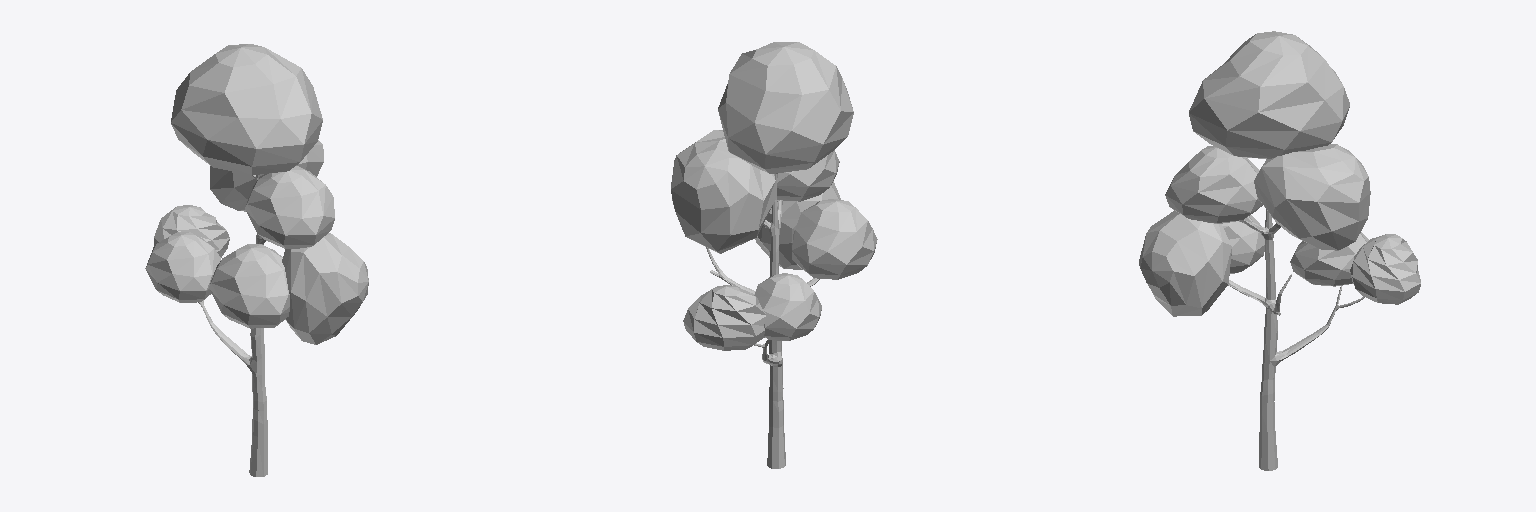
The model's file is Tree3.obj.
3 renders of one model, left to right at view 1: azimuth 30°, elevation 25°; view 2: azimuth 150°, elevation 25°; view 3: azimuth 270°, elevation 25°, orthographic.
Parts seen in each view (by area): view 1: Tree_3; view 2: Tree_3; view 3: Tree_3.
Boxes of the visible parts, x1=… form: Tree_3: x1=145, y1=44, x2=368, y2=476; Tree_3: x1=671, y1=42, x2=877, y2=468; Tree_3: x1=1139, y1=31, x2=1420, y2=470.
Size of the model in its own units: 8.52 by 23.09 by 13.92.